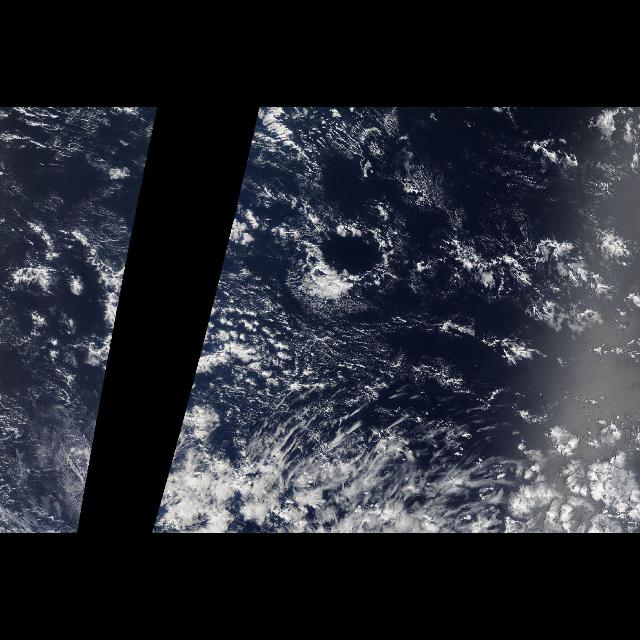Gravel: (251, 134, 639, 370)
